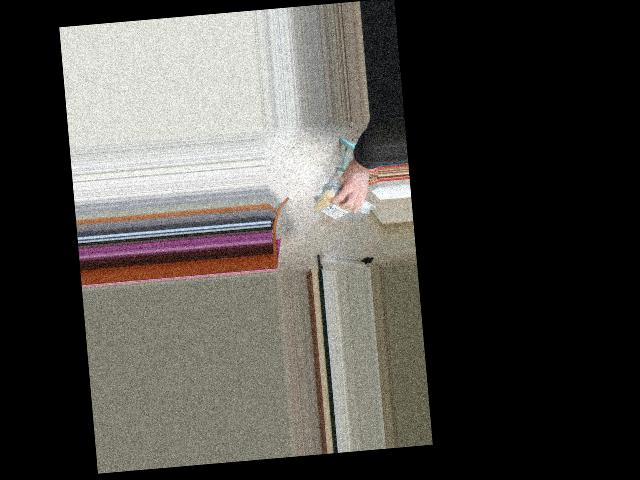cheese: (307, 188, 372, 221)
